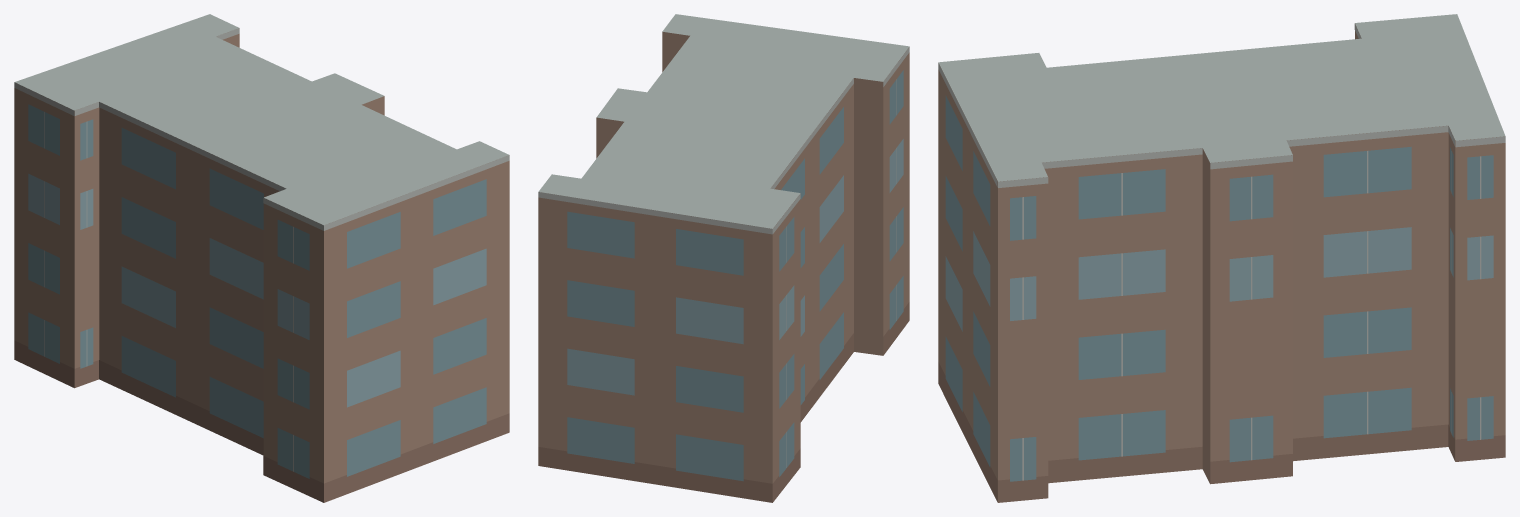
The model's file is survey-upis-32958511.glb.
The picture shows the model from 3 angles, left to right: view 1: azimuth 30°, elevation 25°; view 2: azimuth 150°, elevation 25°; view 3: azimuth 270°, elevation 25°; orthographic projection. The views are drawn at different scales.
Parts seen in each view (by area): view 1: survey-upis-32958511.tmp; view 2: survey-upis-32958511.tmp; view 3: survey-upis-32958511.tmp.
Boxes of the visible parts, x1,y1,x2,y2 form: survey-upis-32958511.tmp: [14, 14, 509, 502]; survey-upis-32958511.tmp: [538, 14, 909, 502]; survey-upis-32958511.tmp: [938, 14, 1505, 502].
Size of the model in its own units: 13.38 by 11.95 by 19.13.
